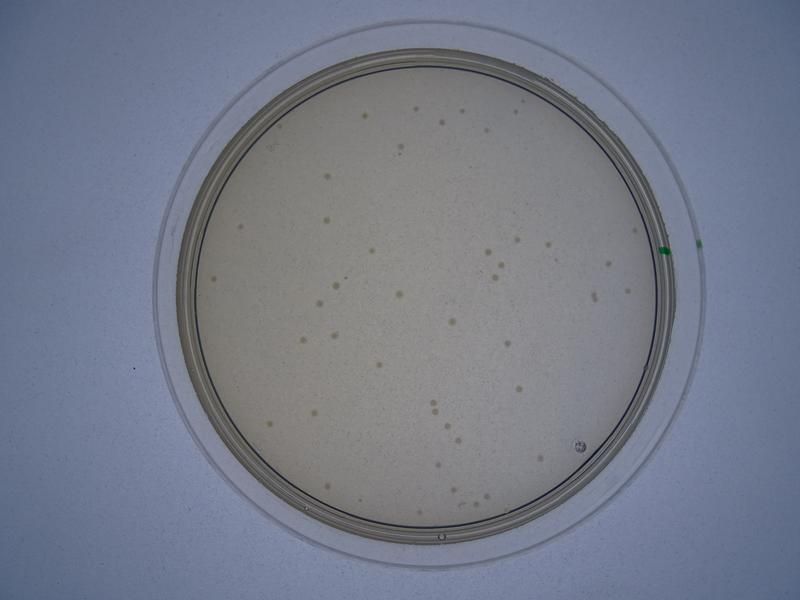colony: (442, 312, 460, 330), (507, 231, 525, 249), (305, 403, 321, 423), (371, 355, 386, 376), (204, 270, 221, 287), (509, 378, 525, 396), (499, 335, 515, 352), (318, 168, 334, 185), (478, 243, 495, 259), (364, 242, 380, 258), (310, 295, 326, 311), (317, 213, 334, 228), (294, 332, 309, 349), (231, 219, 246, 236), (328, 275, 342, 293), (327, 325, 341, 343), (390, 288, 406, 303), (445, 482, 460, 498), (622, 284, 637, 299), (432, 114, 446, 130), (261, 417, 277, 431), (602, 255, 615, 272), (357, 108, 371, 123), (479, 124, 494, 138), (320, 480, 335, 494), (542, 237, 556, 252), (430, 457, 443, 472), (508, 107, 521, 120), (455, 103, 467, 117)
